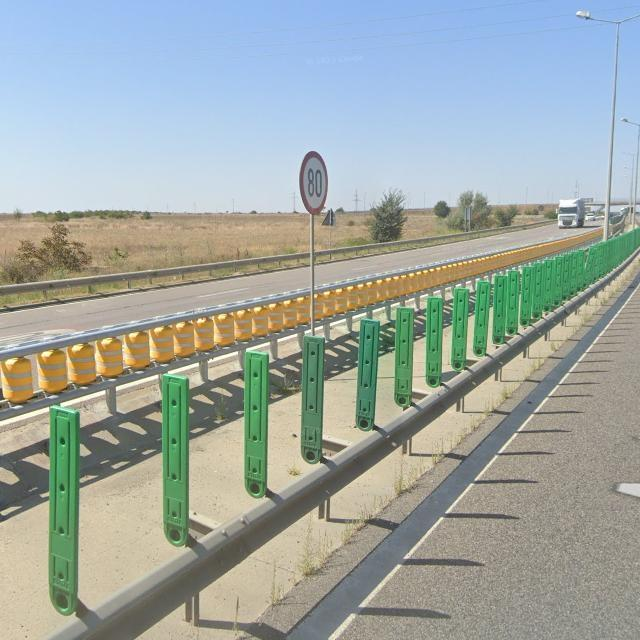forb_speed_over_80: (298, 151, 329, 215)
